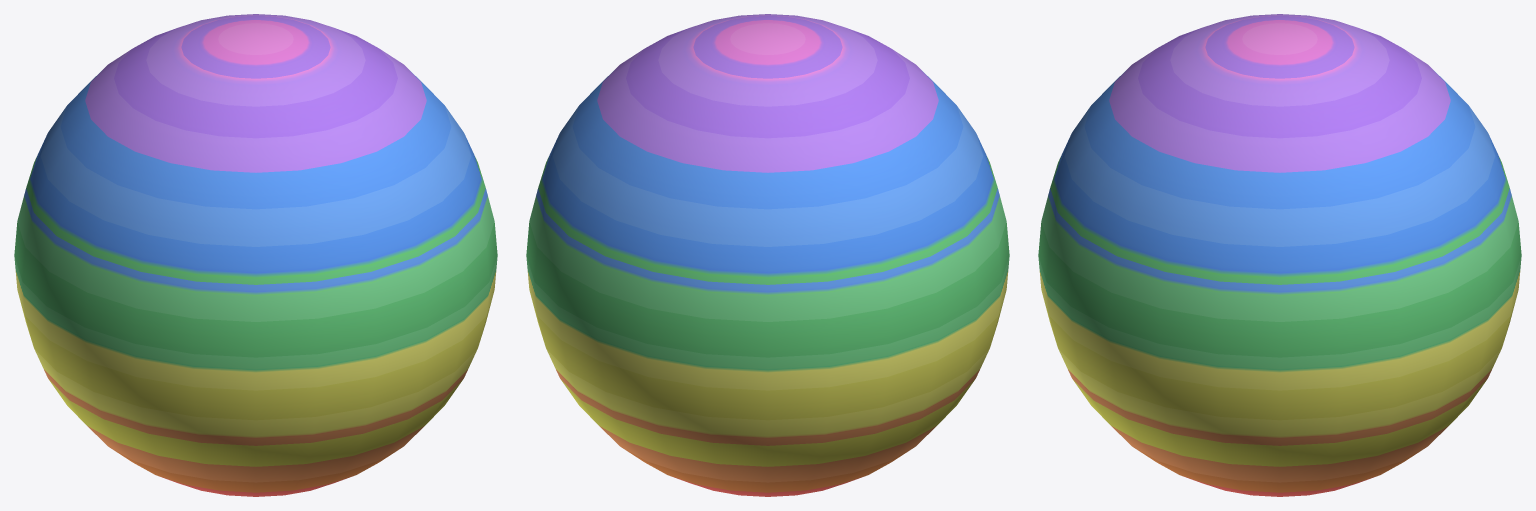
File: ground_009.glb
3 renders of one model, left to right at view 1: azimuth 30°, elevation 25°; view 2: azimuth 150°, elevation 25°; view 3: azimuth 270°, elevation 25°, orthographic.
Parts seen in each view (by area): view 1: ground_009; view 2: ground_009; view 3: ground_009.
Boxes of the visible parts, x1,y1,x2,y2 form: ground_009: [14, 14, 497, 496]; ground_009: [526, 14, 1009, 496]; ground_009: [1038, 14, 1521, 496].
Size of the model in its own units: 20.09 by 20.09 by 20.09.
1 material, 1 textured.
